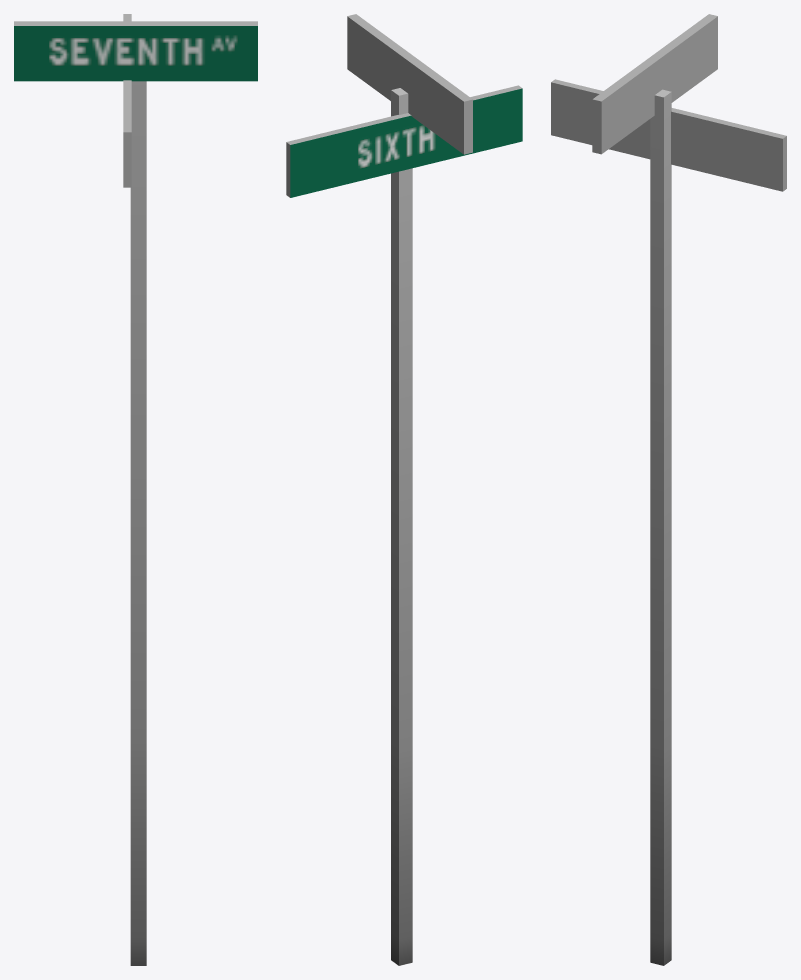
The model's file is streetsign.fbx.
3 views of the same model, side by side, from view 1: azimuth 30°, elevation 25°; view 2: azimuth 150°, elevation 25°; view 3: azimuth 270°, elevation 25° (orthographic). The views are drawn at different scales.
Parts seen in each view (by area): view 1: polySurface11; view 2: polySurface11; view 3: polySurface11.
Part boxes in pixels (box(x1,y1,x2,y2)): polySurface11: box(14, 14, 257, 965); polySurface11: box(286, 14, 522, 965); polySurface11: box(551, 14, 786, 965).
Bounding box in the file's own units: 5.06 × 24.26 × 5.76.
2 materials, 2 textured.
